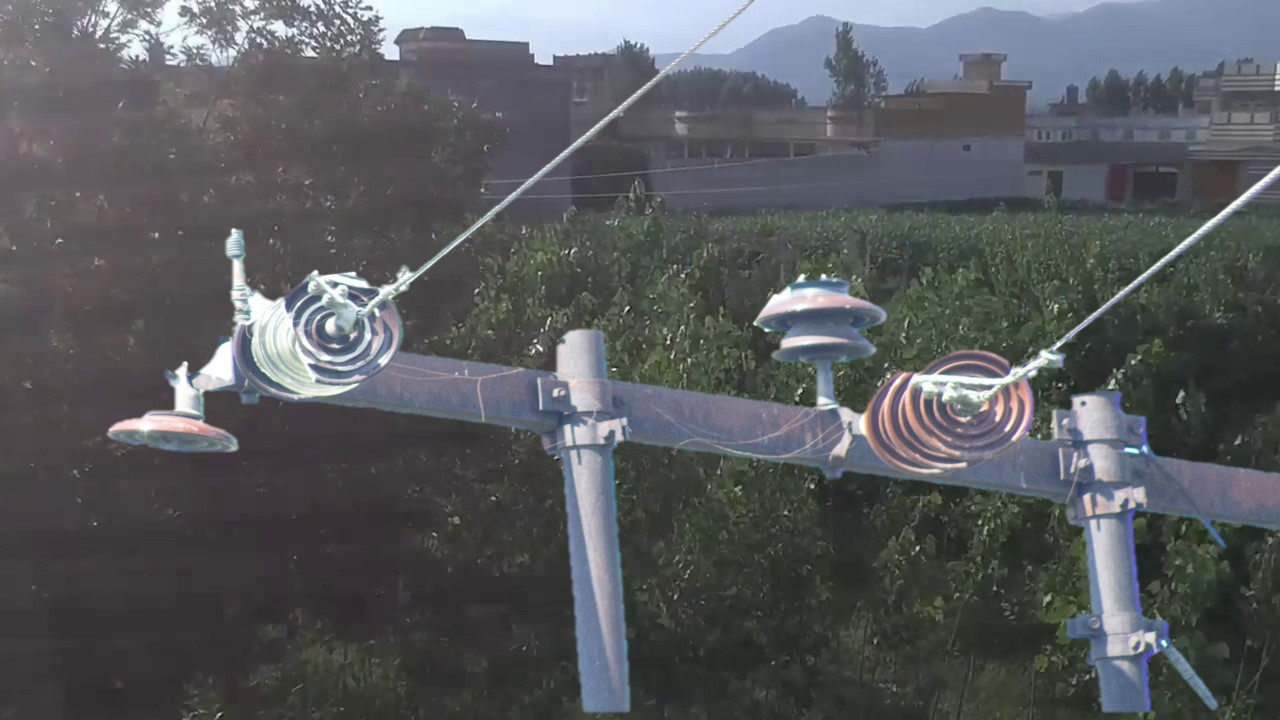defect_disc: (281, 267, 413, 395)
insulator_disc: (906, 345, 1039, 466), (101, 393, 243, 462)
